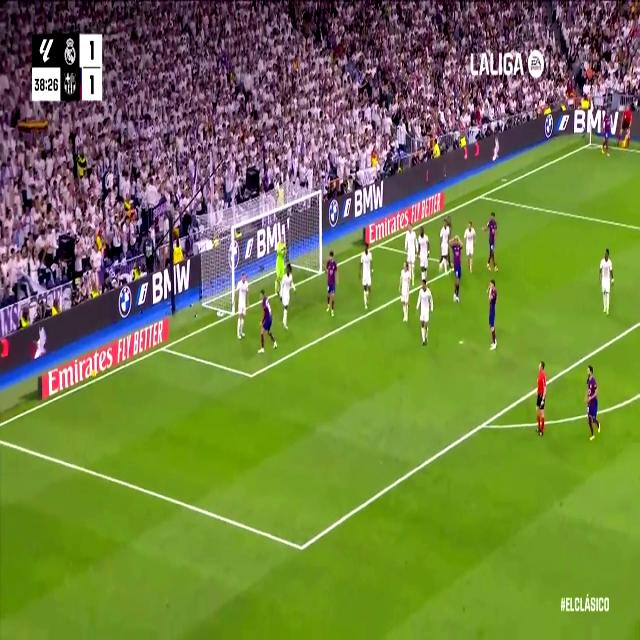bigarea_bottom_inner: (294, 528, 309, 565)
bigarea_top_outter: (477, 188, 486, 202)
bottom_arc_area_intersection: (476, 410, 490, 438)
corner: (585, 137, 595, 150)
smallarea_bottom_inner: (246, 362, 256, 388)
smallarea_bottom_outter: (159, 338, 169, 356)
smallarea_top_outter: (375, 239, 383, 252)
